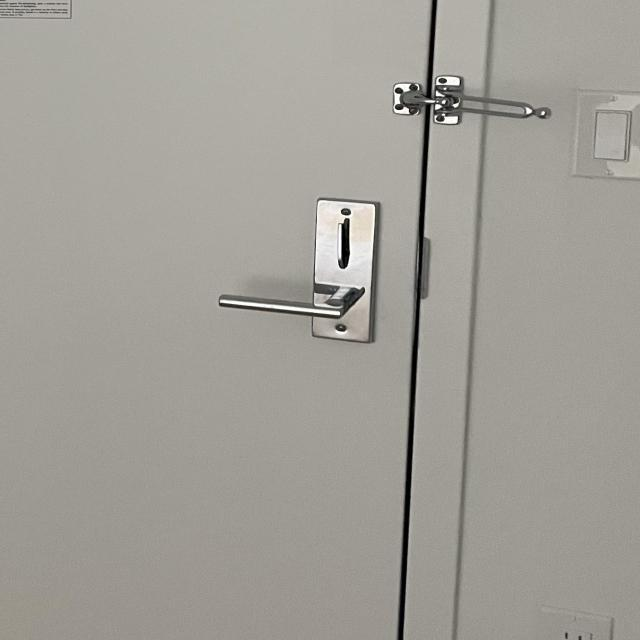door_handle: (212, 278, 377, 329)
